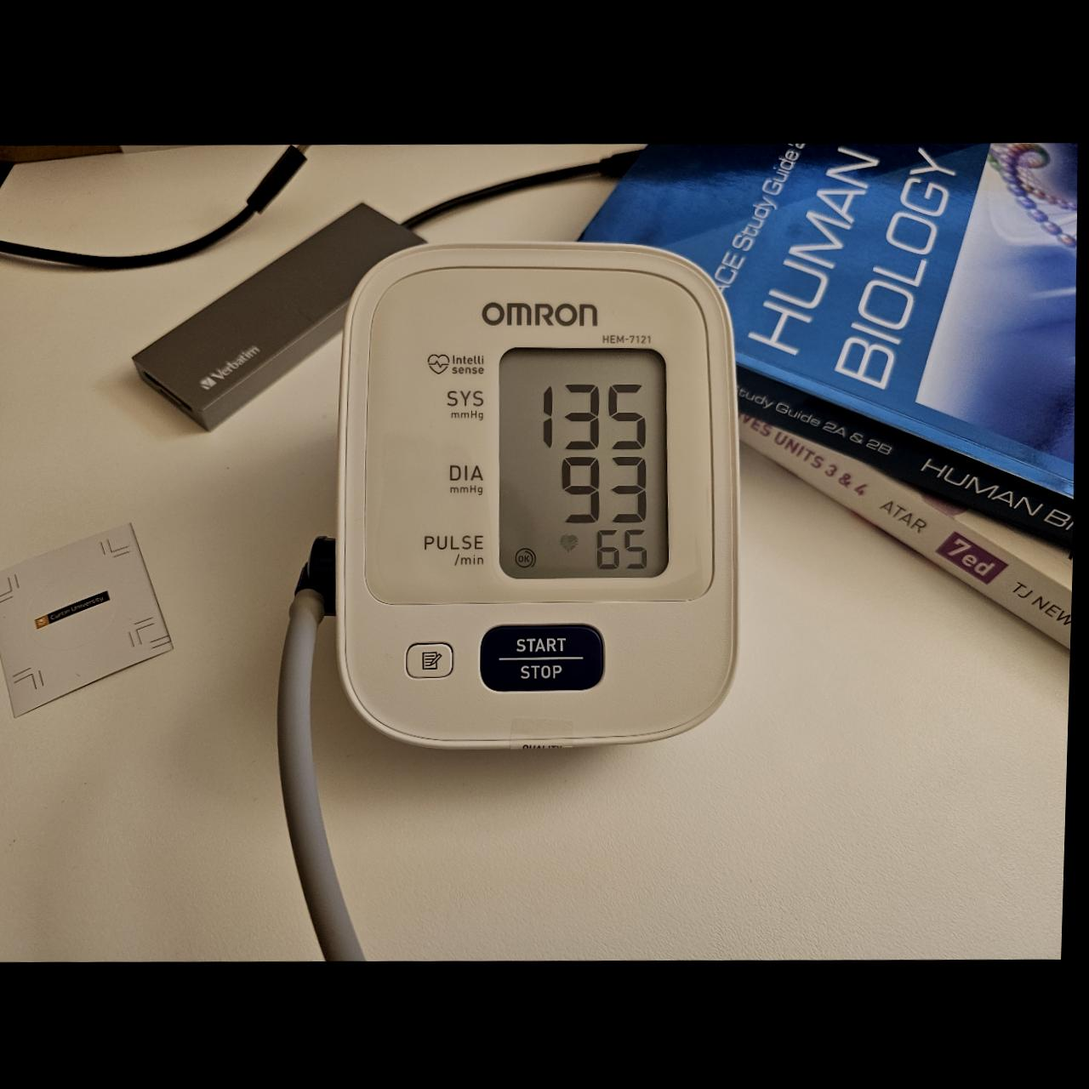lcd display: (492, 344, 677, 582)
